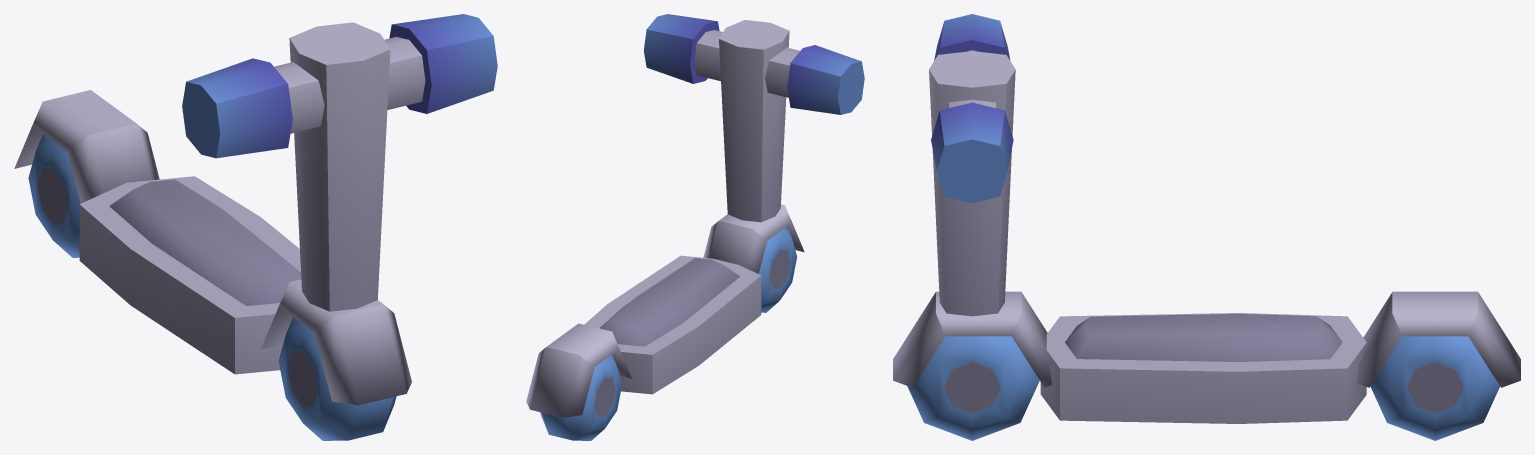
The model's file is kenney-mini-skate-scooter-31c0b8-5e9c3ffb.glb.
The picture shows the model from 3 angles, left to right: view 1: azimuth 30°, elevation 25°; view 2: azimuth 150°, elevation 25°; view 3: azimuth 270°, elevation 25°; orthographic projection. The views are drawn at different scales.
Parts seen in each view (by area): view 1: scooter; view 2: scooter; view 3: scooter.
Part boxes in pixels (x1=…): scooter: x1=14, y1=14, x2=497, y2=440; scooter: x1=526, y1=14, x2=864, y2=440; scooter: x1=893, y1=14, x2=1520, y2=440.
Size of the model in its own units: 0.6496 by 0.8793 by 1.38.
1 material, 1 textured.
